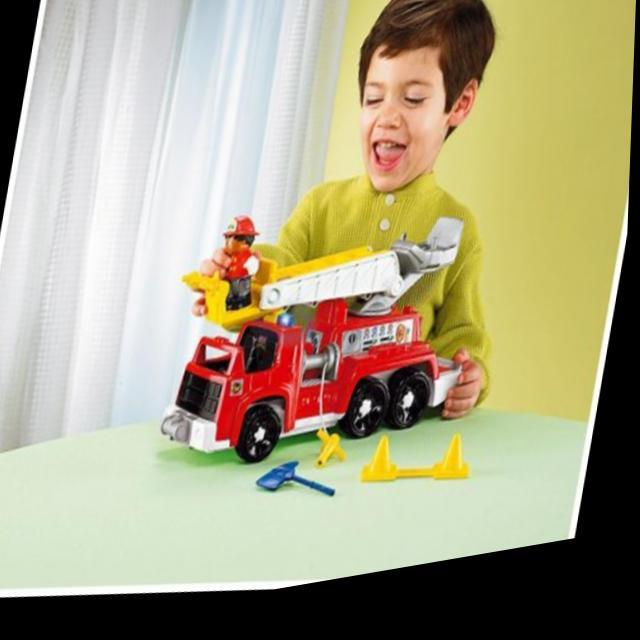Nonhelmet: (351, 0, 498, 193)
